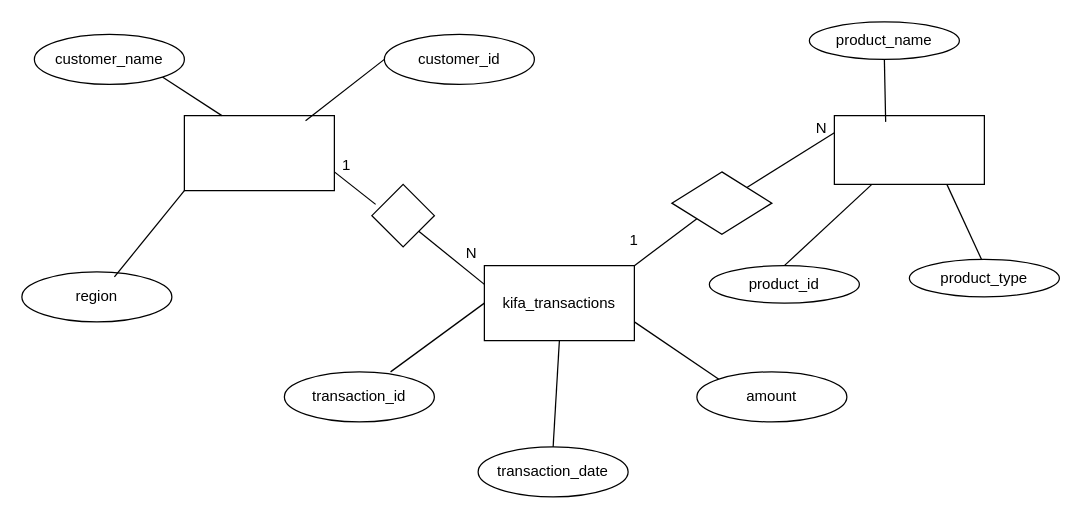
Some shapes in this 1081 by 519 pixel diagram are drawn without their labels. The centre of each missing label's shape, as x and y in pixels:
"involves" belongs at point 721,202.
"kifa_customers" belongs at point 258,152.
"kifa_products" belongs at point 908,149.
"makes" belongs at point 402,215.
